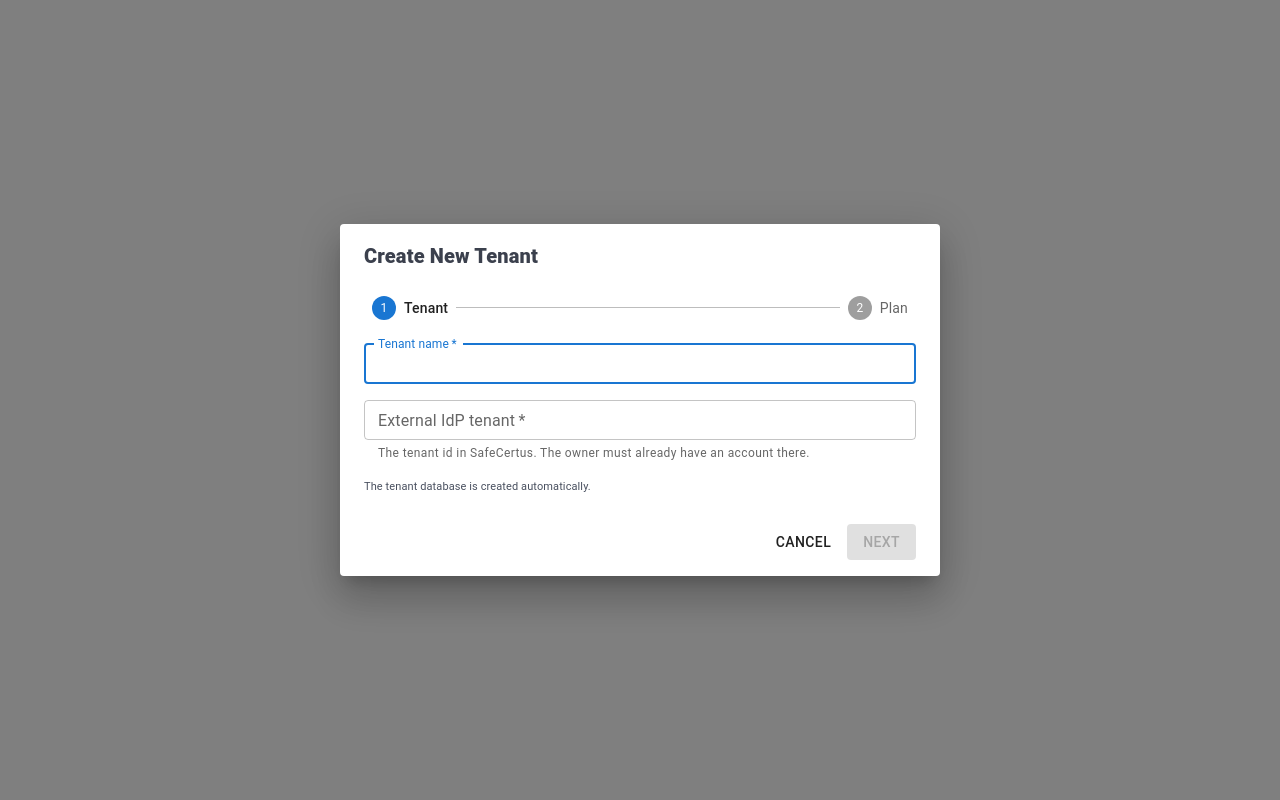
Test: Create New Tenant › si el alta falla, lo dice y no intenta el plan
Step 1. Type "Globex" into the field labelled "Tenant name *" → (640, 364), box [364,344,916,384]
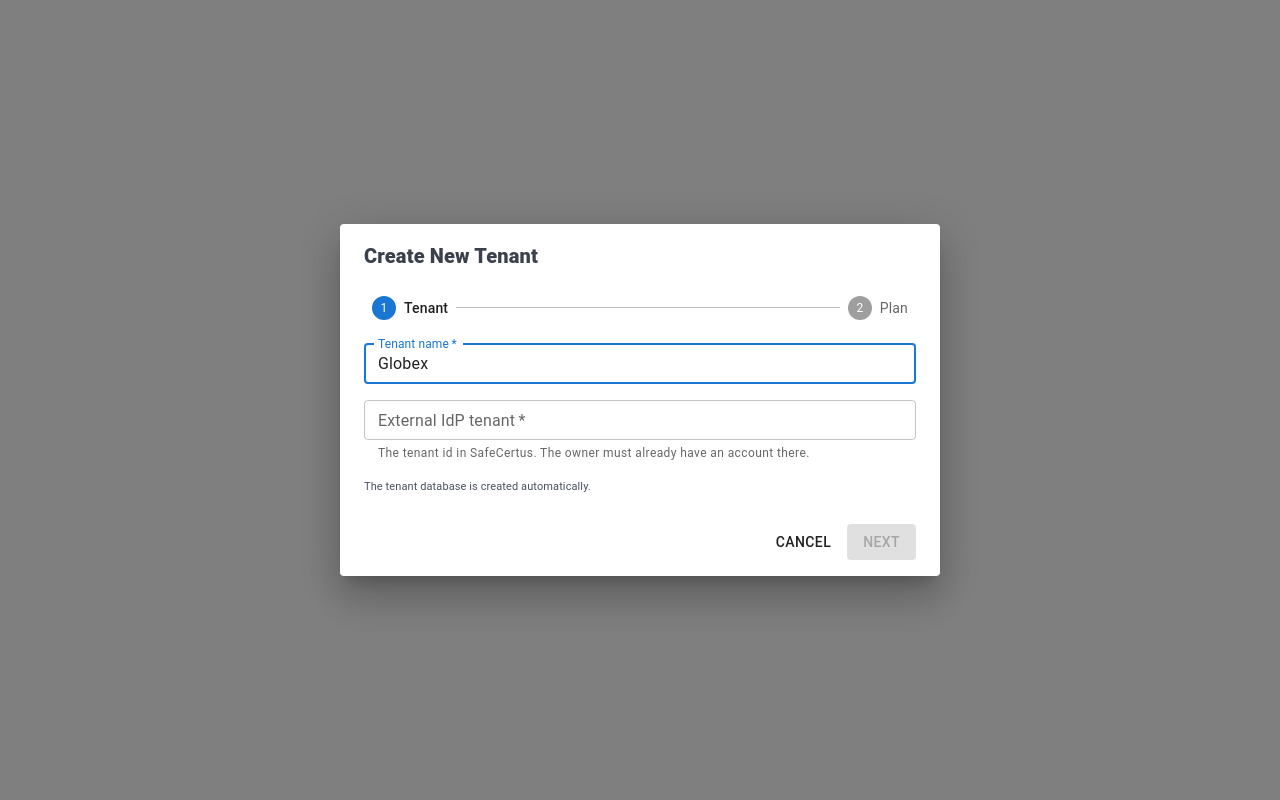
Step 2. Type "ext-globex" into the field labelled "External IdP tenant *" → (640, 420), box [364,400,916,440]
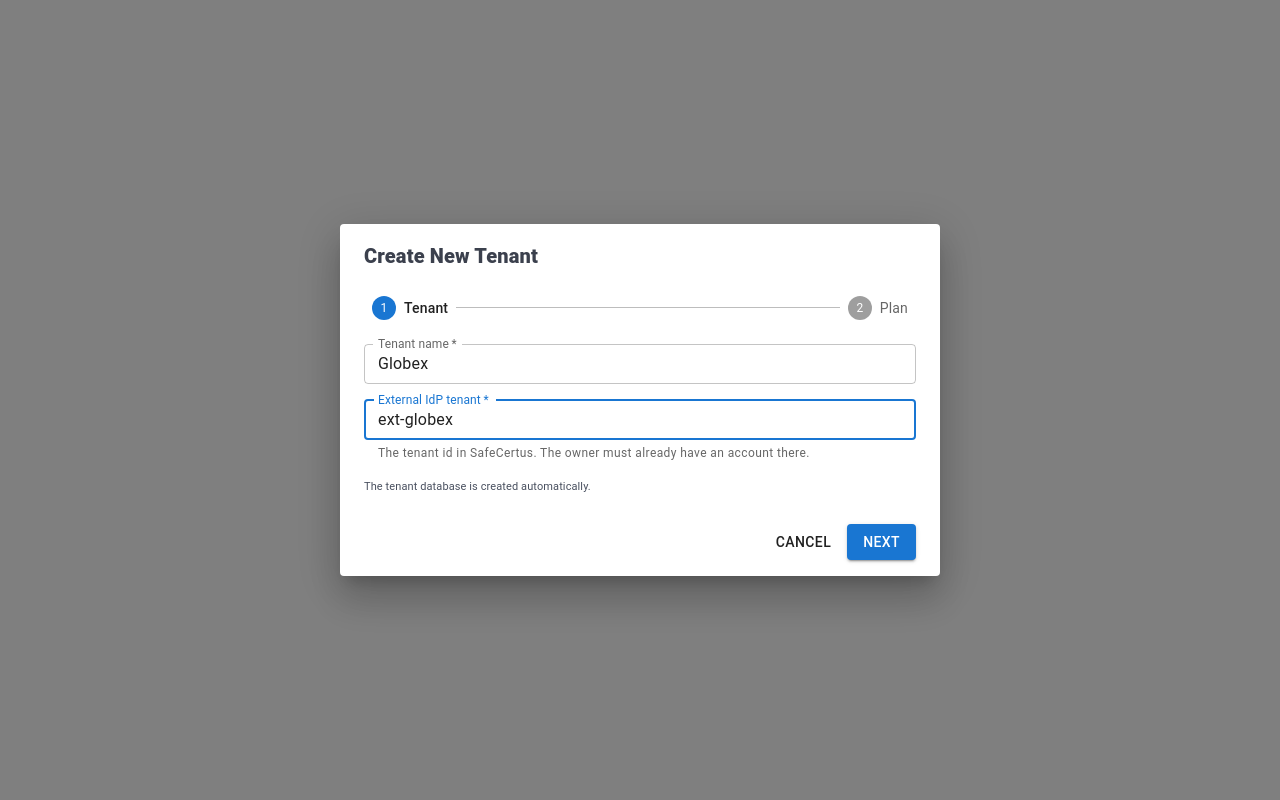
Step 3. Click the button "Next" → (882, 542), box [847,524,916,560]
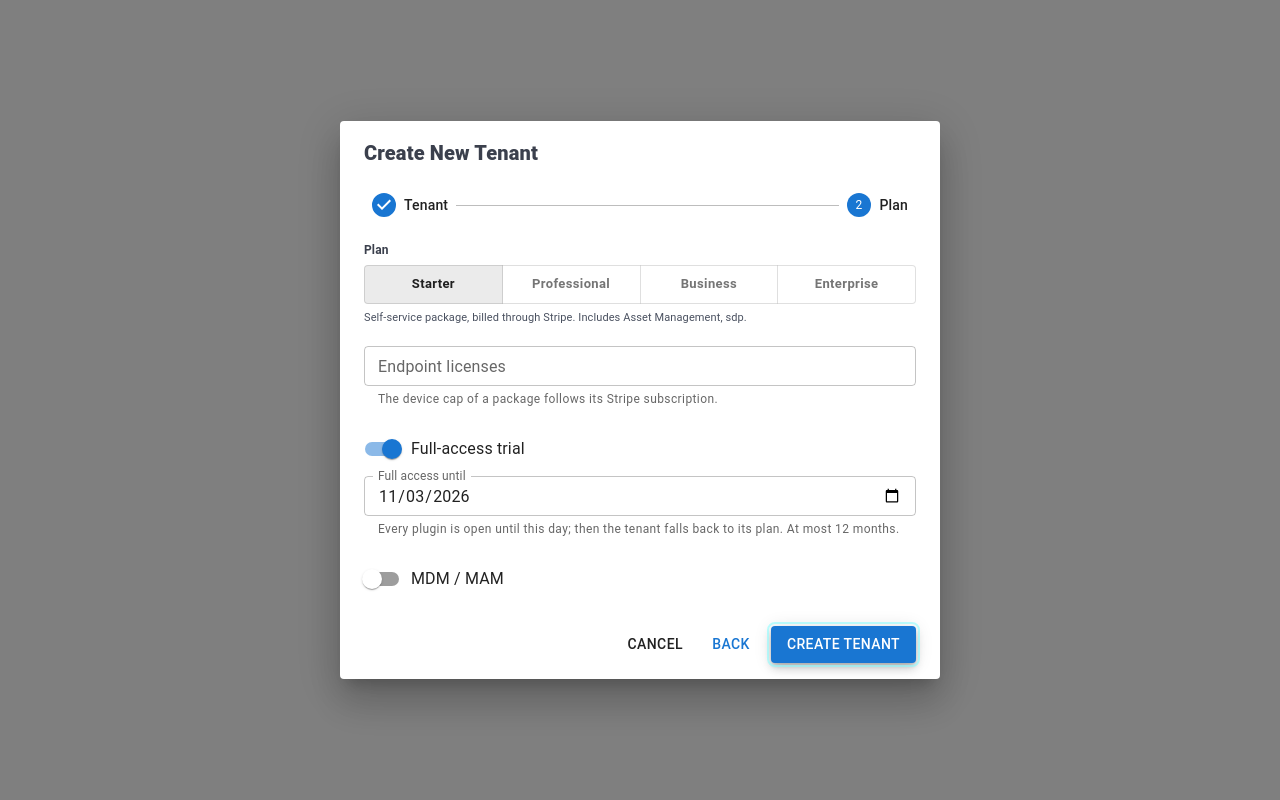
Step 4. Type "10" into the number field labelled "Endpoint licenses" → (640, 366), box [364,346,916,386]
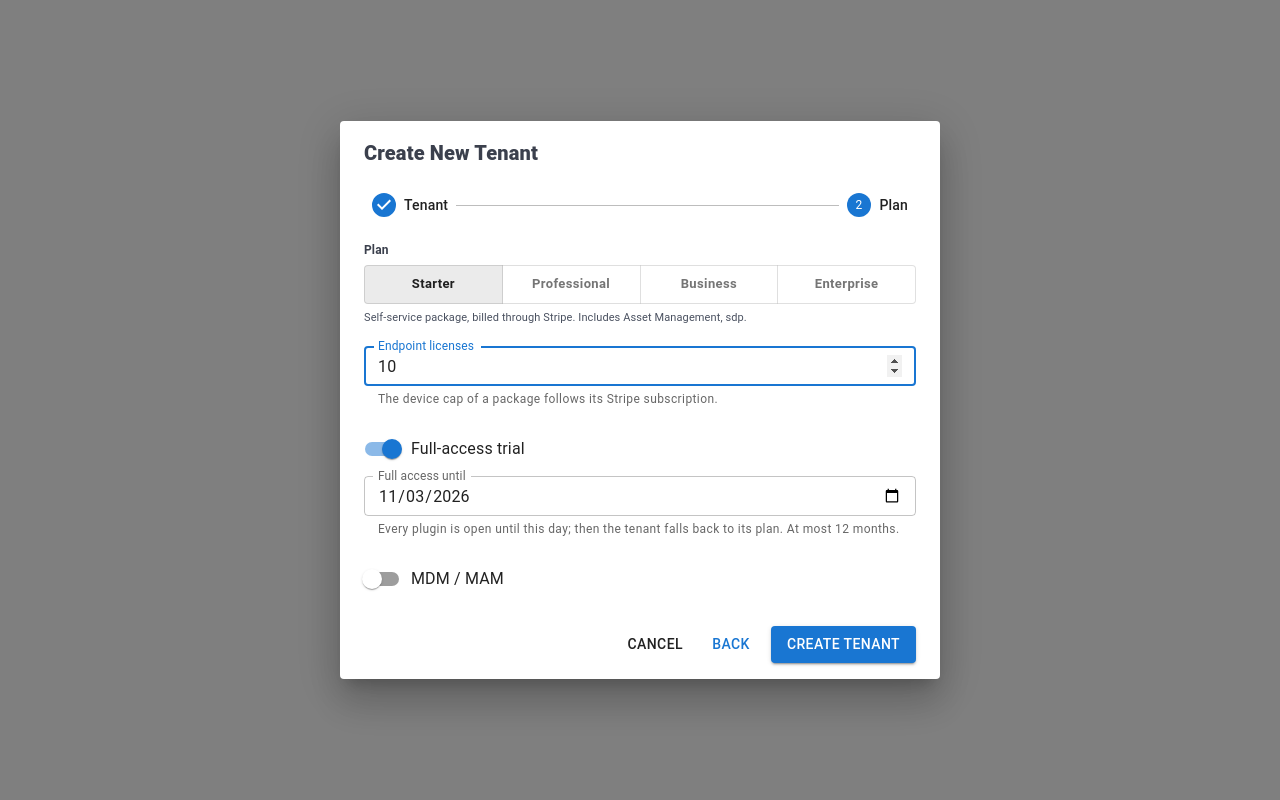
Step 5. Click the button "Create tenant" → (843, 645), box [771,626,916,663]
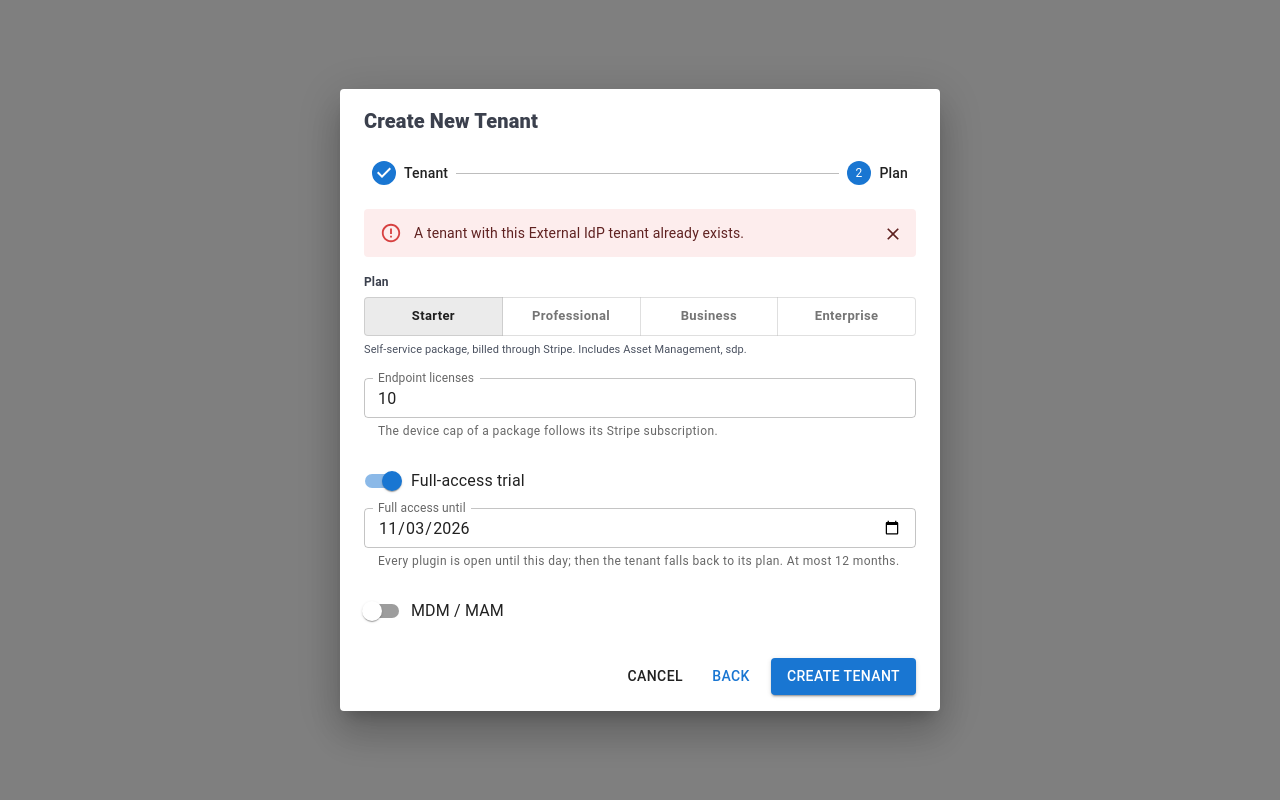
Now the text "A tenant with this External IdP tenant already exists." is shown, box [414,225,744,241]
